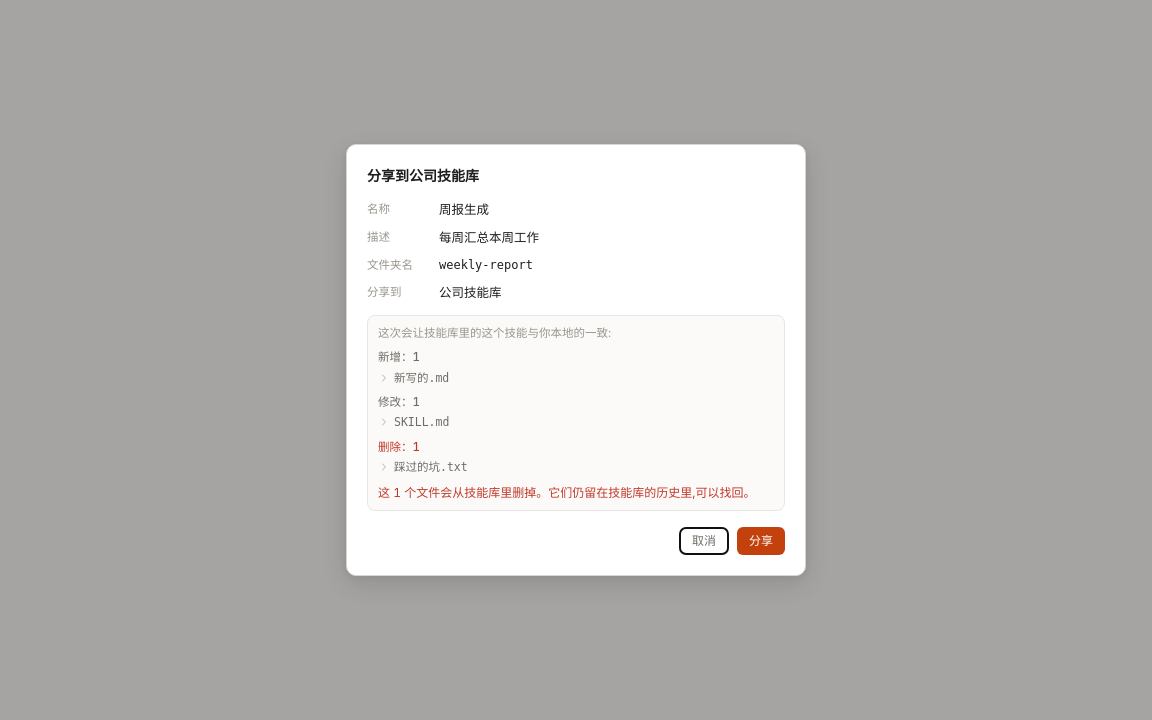
Test: 🔴 v8 任务 10 / Q20:清单里的文件就地展开看内容 › 修改的文件展开是差异,删除的文件展开是库里那一版的内容
Expected: the text "周报生成" is shown, [439,202,489,217]
Expected: the text "改过的一句" is not shown
Click the button "SKILL.md" at (422, 422), box [378,413,770,432]
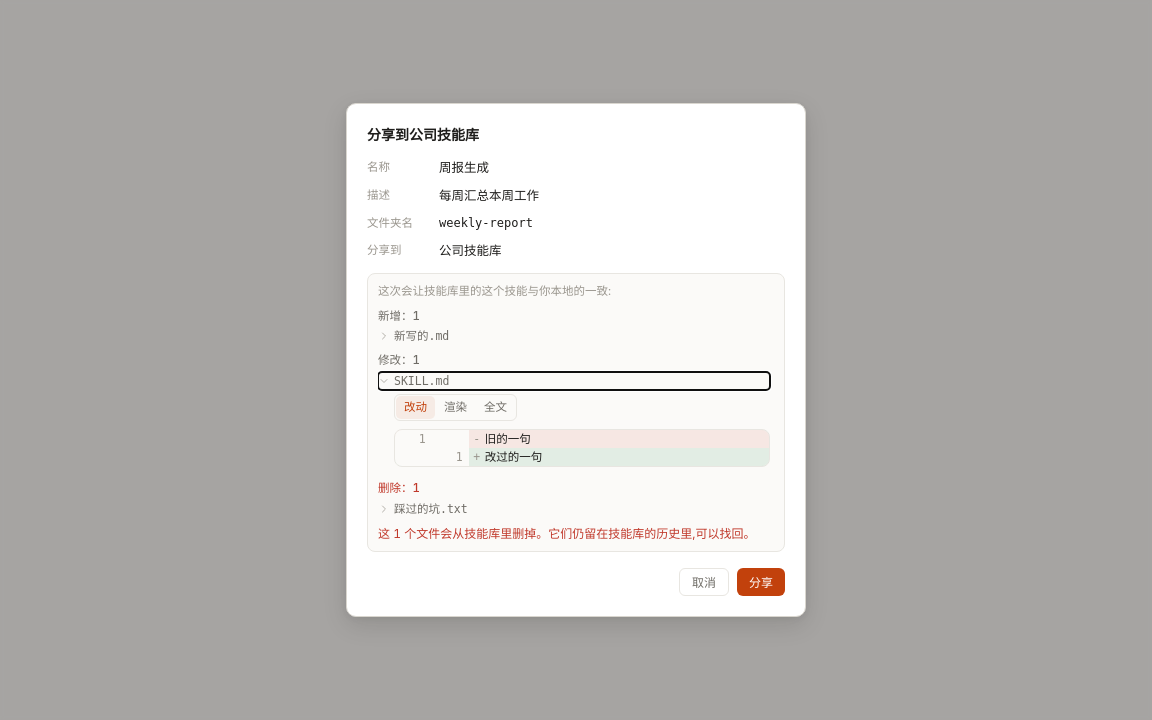
Expected: the text "库里那一版的坑" is not shown
Result: the text "旧的一句" is shown at [485,432,531,446]
Result: the text "改过的一句" is shown at [485,450,542,464]
Click the button "踩过的坑.txt" at (431, 509), box [378,500,770,518]
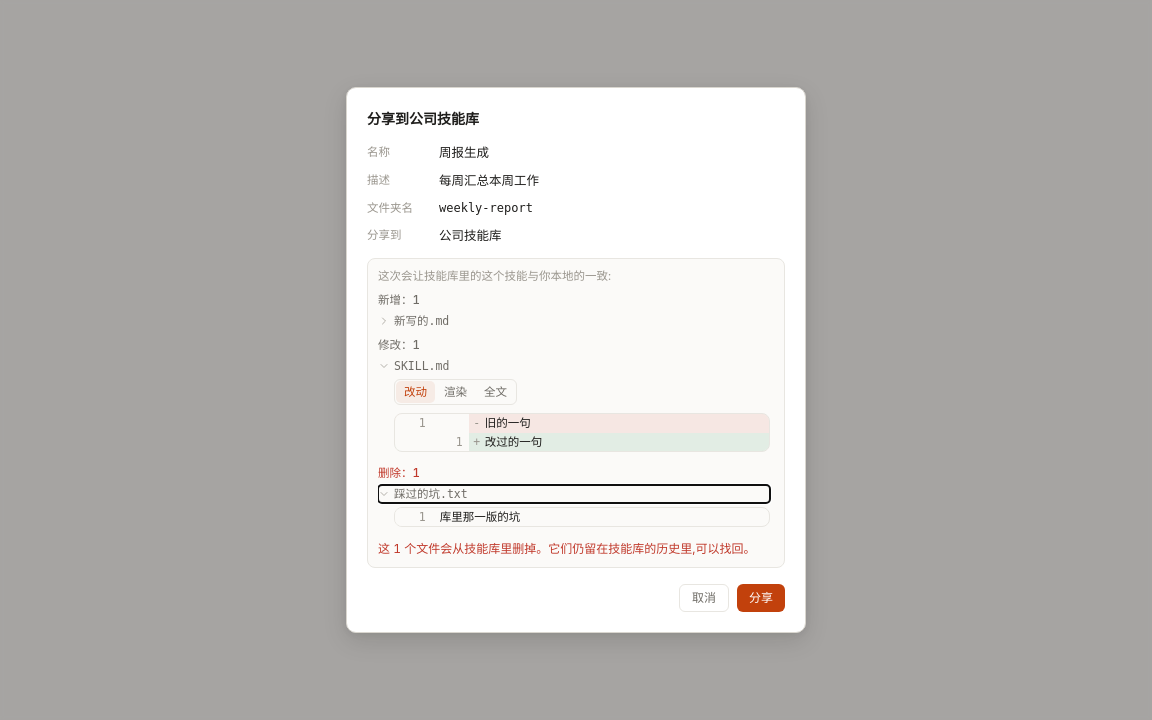
Result: the text "库里那一版的坑" is shown at [440,510,520,524]
